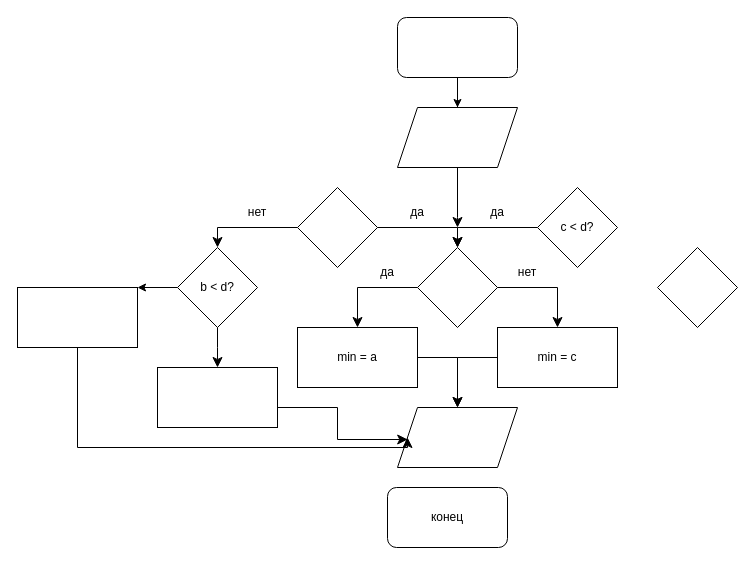
This 755x565 diagram has some shape labels left out. Here are the shapes that lost their labels. From the top down, the centre of each, then its label:
At [337,227]: "a < b?".
At [457,287]: "a < c?".
At [457,437]: "min".
